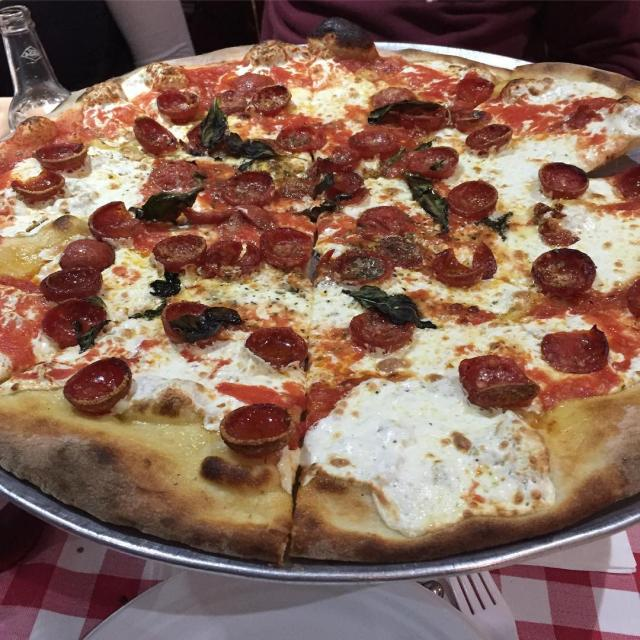basil: (335, 282, 439, 332), (401, 170, 454, 232), (166, 302, 246, 342), (127, 185, 206, 225), (366, 100, 448, 128), (224, 132, 281, 172), (198, 96, 230, 160), (298, 191, 359, 224), (70, 317, 112, 354), (472, 209, 516, 243), (125, 295, 171, 324), (148, 265, 185, 299), (314, 167, 335, 200), (394, 142, 432, 160), (86, 292, 106, 312)
pepperoni: (212, 400, 298, 460), (58, 353, 133, 412), (459, 354, 542, 406), (529, 244, 599, 298), (538, 327, 615, 376), (38, 298, 109, 348), (319, 243, 396, 286), (156, 298, 222, 348), (314, 152, 374, 207), (431, 240, 497, 288), (243, 322, 310, 369), (385, 142, 461, 182), (257, 223, 316, 272), (348, 307, 411, 352), (198, 238, 262, 277), (88, 200, 144, 243), (151, 229, 207, 271), (222, 169, 278, 211), (37, 267, 104, 302), (213, 200, 273, 239), (376, 229, 429, 273), (360, 206, 416, 247), (59, 236, 115, 276), (345, 124, 407, 160), (303, 380, 344, 434), (442, 181, 500, 219), (29, 136, 88, 173), (534, 160, 591, 198), (130, 115, 180, 157), (13, 164, 67, 202), (148, 153, 198, 194), (153, 86, 205, 122), (273, 120, 327, 154), (463, 122, 516, 153), (185, 196, 237, 227), (212, 75, 250, 116), (250, 78, 292, 115), (398, 105, 448, 134), (452, 72, 496, 104), (369, 85, 413, 109), (623, 266, 640, 324), (617, 166, 640, 201)
pizza: (0, 19, 639, 562)
